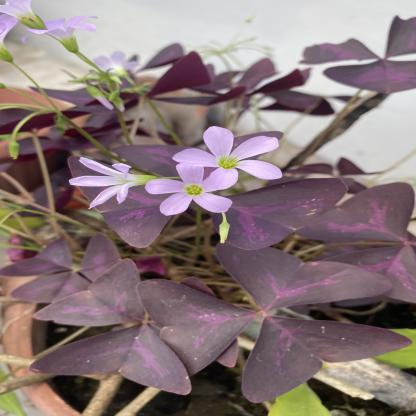Kupu-Kupu: (168, 260, 390, 395), (88, 141, 326, 243), (30, 270, 214, 385), (145, 57, 308, 118), (326, 21, 416, 90)
